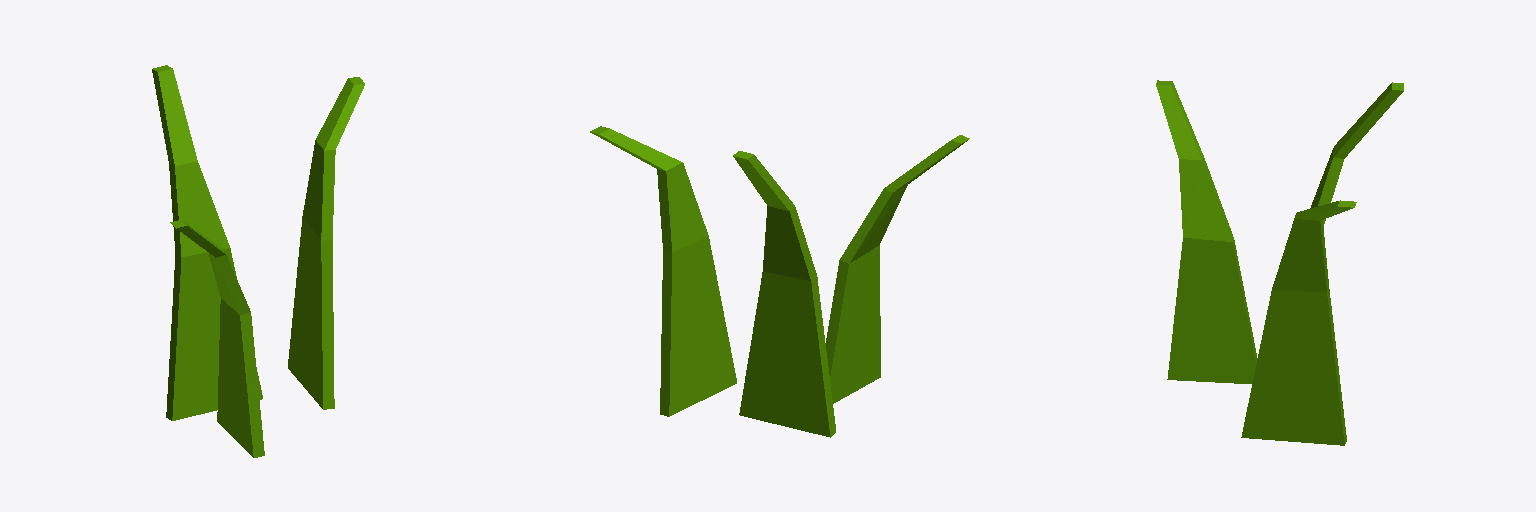
The model's file is Grass_01.obj.
3 renders of one model, left to right at view 1: azimuth 30°, elevation 25°; view 2: azimuth 150°, elevation 25°; view 3: azimuth 270°, elevation 25°, orthographic.
Parts seen in each view (by area): view 1: Plane.002; view 2: Plane.002; view 3: Plane.002.
Part boxes in pixels (x1,y1,x2,y2): Plane.002: (152,65,364,457); Plane.002: (590,126,969,437); Plane.002: (1156,80,1403,445).
Size of the model in its own units: 0.7938 by 0.8227 by 0.6051.